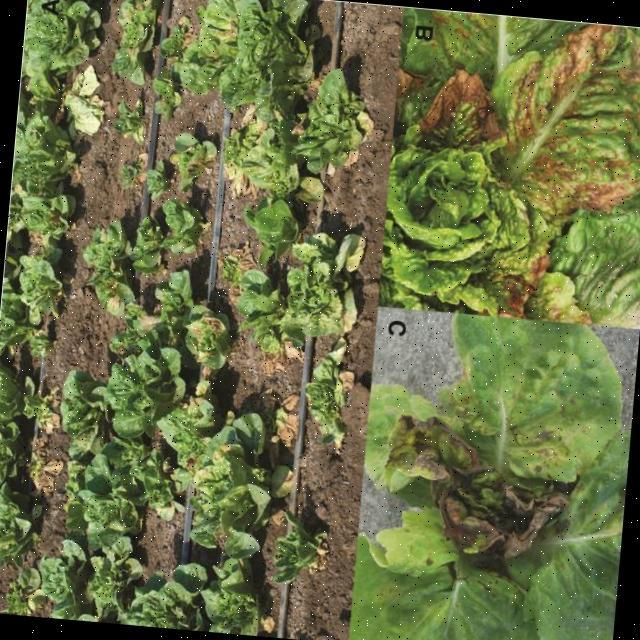Lettuce Mosaic Virus: (392, 24, 640, 316), (369, 371, 618, 638)
